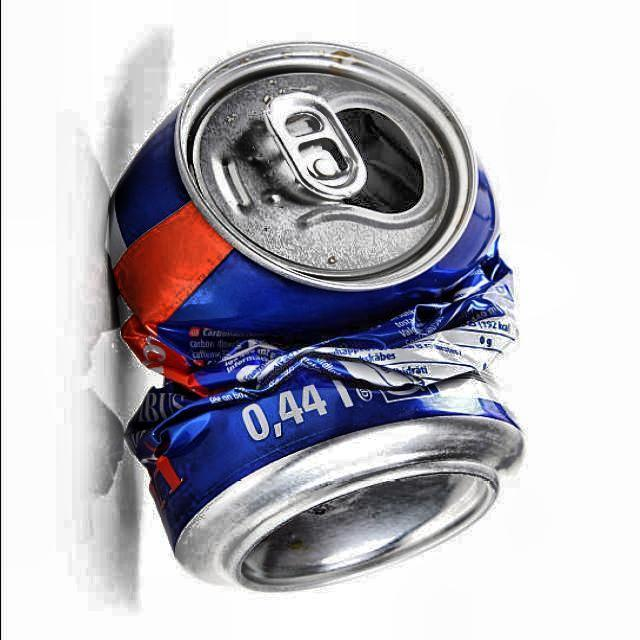metal: (104, 41, 525, 597)
